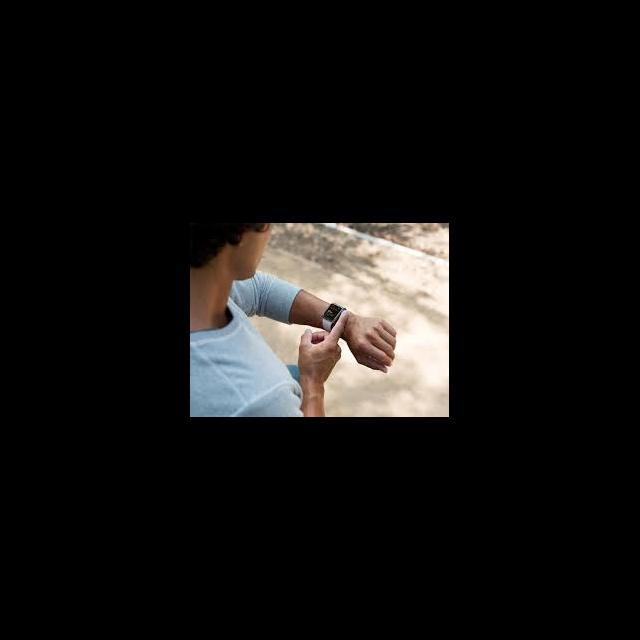watch: (313, 292, 350, 323)
